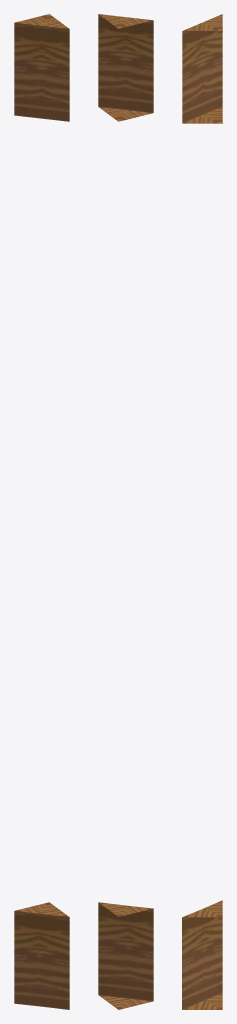
Rendered from Corner_Exterior_TopDown.gltf.
3 views of the same model, side by side, from view 1: azimuth 30°, elevation 25°; view 2: azimuth 210°, elevation 25°; view 3: azimuth 270°, elevation 25° (orthographic).
Parts seen in each view (by area): view 1: Corner_Exterior_TopDown; view 2: Corner_Exterior_TopDown; view 3: Corner_Exterior_TopDown.
Boxes of the visible parts, x1,y1,x2,y2 form: Corner_Exterior_TopDown: [14, 14, 69, 1009]; Corner_Exterior_TopDown: [98, 14, 153, 1009]; Corner_Exterior_TopDown: [182, 14, 222, 1009].
Size of the model in its own units: 0.093 by 2.47 by 0.093.
1 material, 1 textured.
